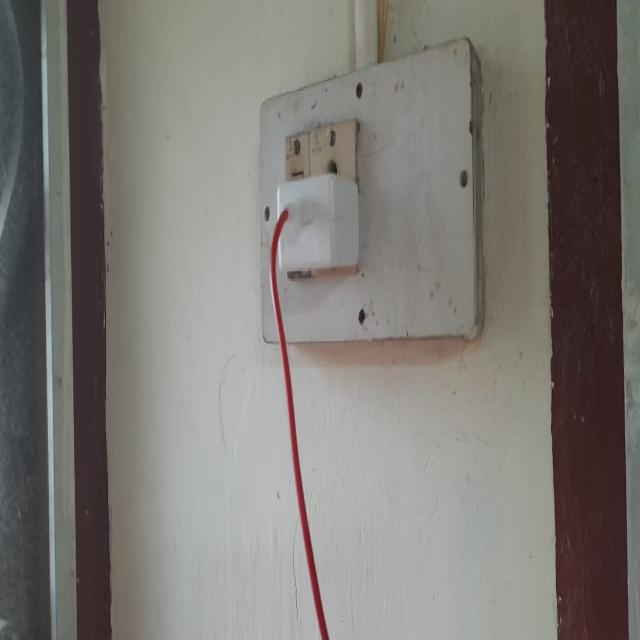Charger - Recyclable: (261, 165, 383, 640)
